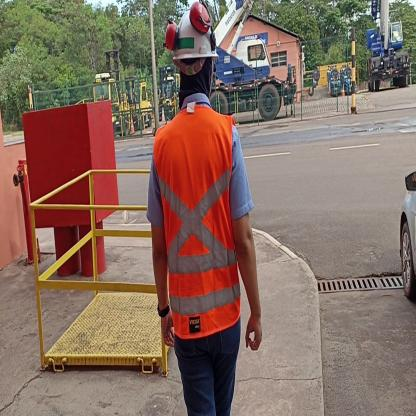Balaclava: (179, 59, 213, 102)
Capacete: (172, 4, 218, 62)
colete: (158, 116, 243, 332)
